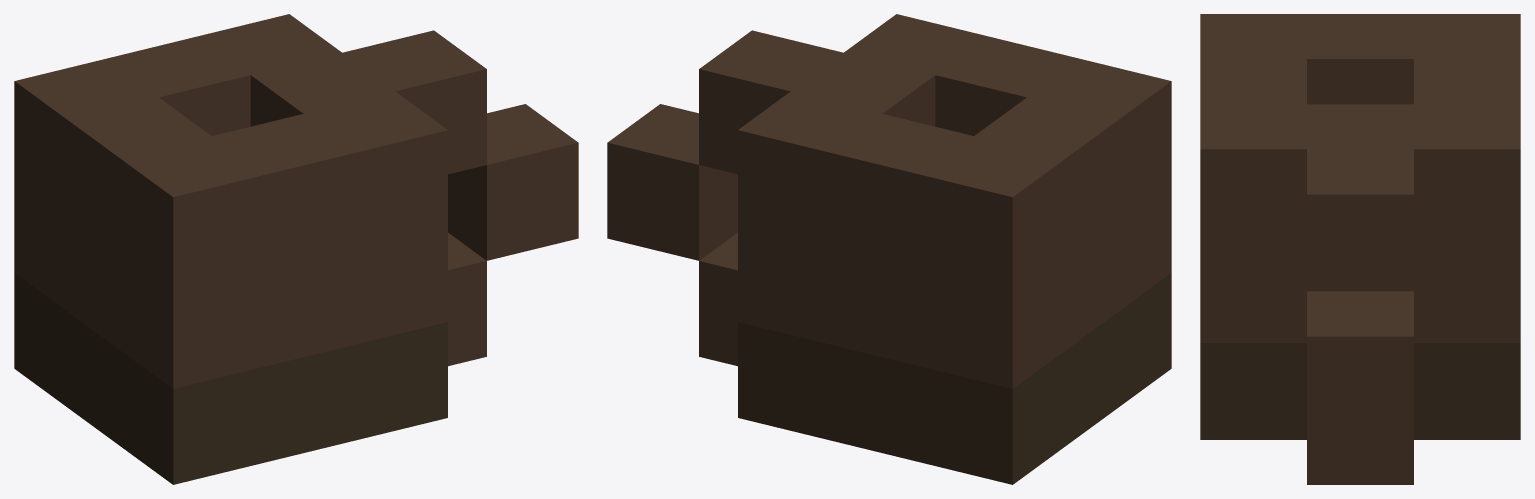
The model's file is tavern-5-winemug.obj.
The picture shows the model from 3 angles, left to right: view 1: azimuth 30°, elevation 25°; view 2: azimuth 150°, elevation 25°; view 3: azimuth 270°, elevation 25°; orthographic projection.
Visible parts, largest first — view 1: winemug; view 2: winemug; view 3: winemug.
Part boxes in pixels (bbox=[...]): winemug: bbox=[14, 14, 578, 484]; winemug: bbox=[607, 14, 1171, 484]; winemug: bbox=[1200, 14, 1520, 484].
Size of the model in its own units: 0.5 by 0.3 by 0.3.
Materials: 1 (1 with a texture image).
